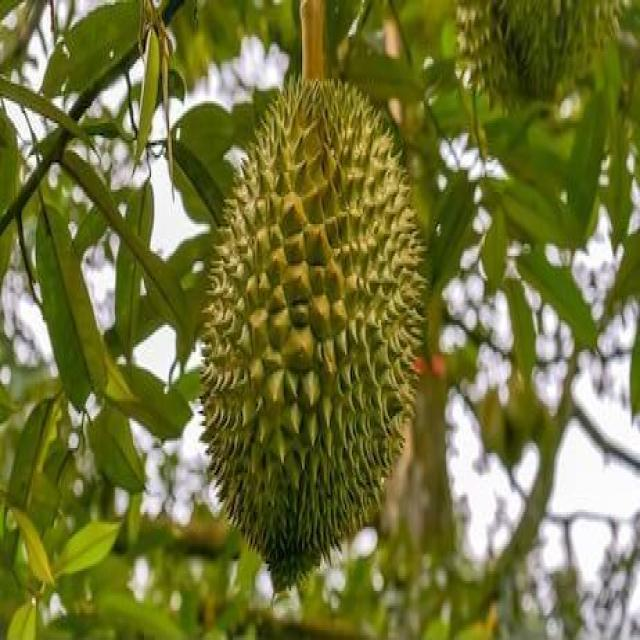immature: (195, 67, 425, 598)
